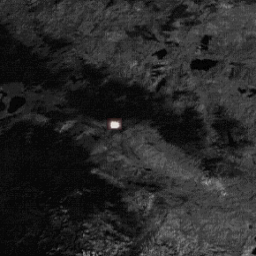Target: (109, 120, 120, 130)
